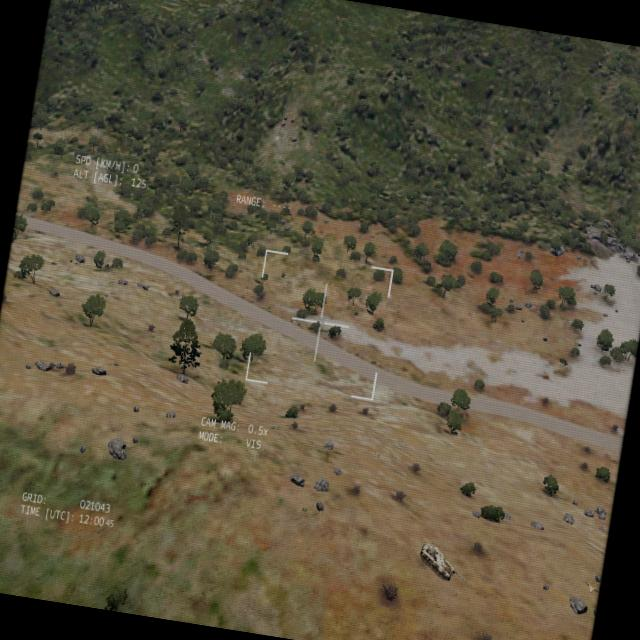tank: (415, 540, 472, 586)
